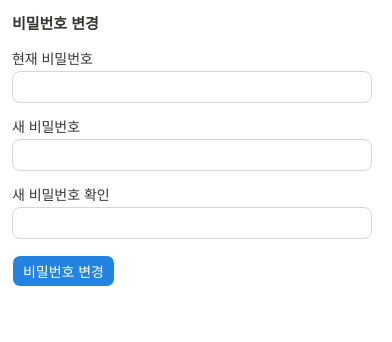
PasswordSection › shows the backend error and does not navigate on failure
Step 1. Type "OldPass1@" into the password field labelled "현재 비밀번호" → {"x": 192, "y": 86}, box [12,70,372,102]
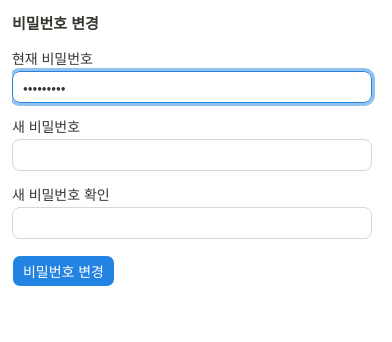
Step 2. Type "NewPass2@" into the password field labelled "새 비밀번호" → {"x": 192, "y": 154}, box [12,138,372,170]
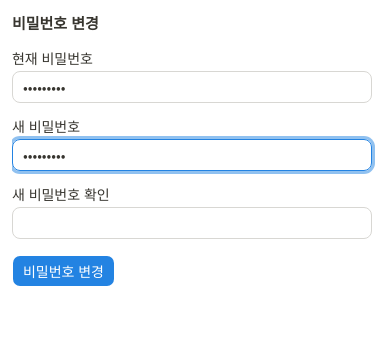
Step 3. Type "NewPass2@" into the password field labelled "새 비밀번호 확인" → {"x": 192, "y": 222}, box [12,206,372,238]
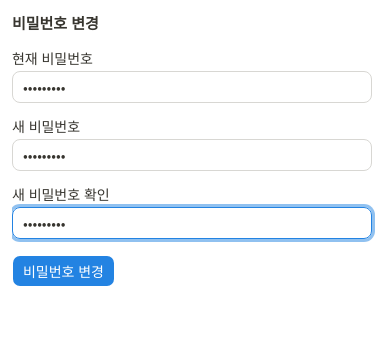
Step 4. Click the button "비밀번호 변경" → {"x": 63, "y": 270}, box [12,254,115,286]
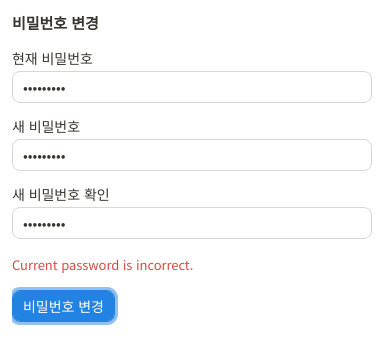
Expected: the text "Current password is incorrect." is shown, [12,254,193,274]
